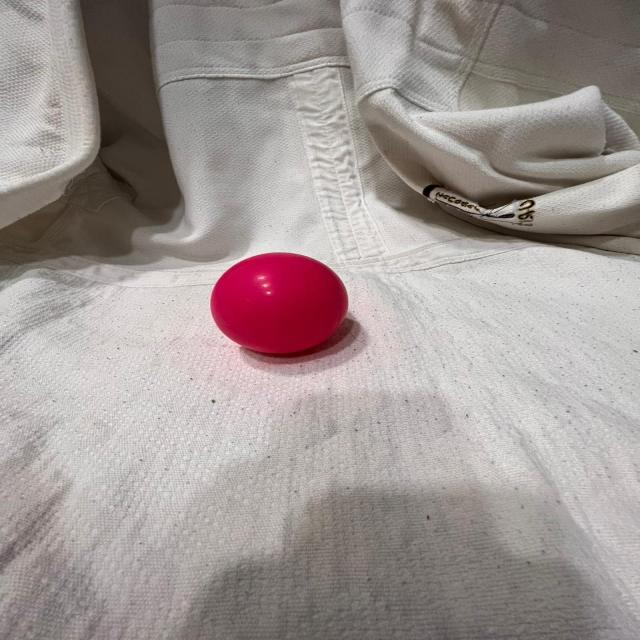ball: (209, 249, 354, 358)
